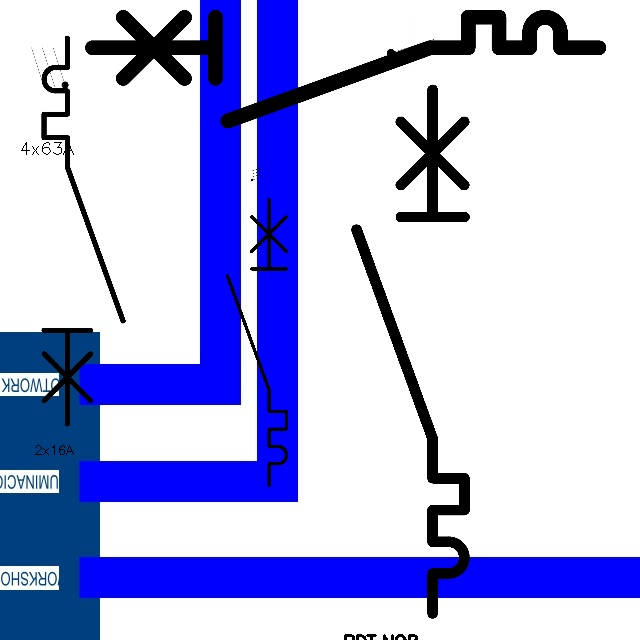interruptor_termomagnetico: (343, 76, 478, 627), (79, 4, 612, 134), (34, 28, 133, 434), (220, 192, 294, 493)
